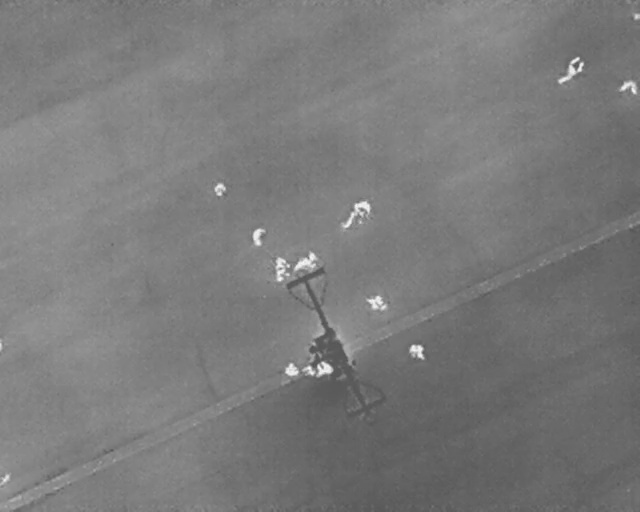Person: (555, 54, 588, 90), (290, 248, 322, 278), (338, 207, 360, 232), (274, 257, 290, 283), (366, 294, 387, 312), (315, 361, 334, 378), (617, 80, 638, 95), (251, 227, 266, 247), (354, 198, 371, 214), (410, 344, 425, 361), (284, 362, 299, 376), (213, 181, 226, 197)
